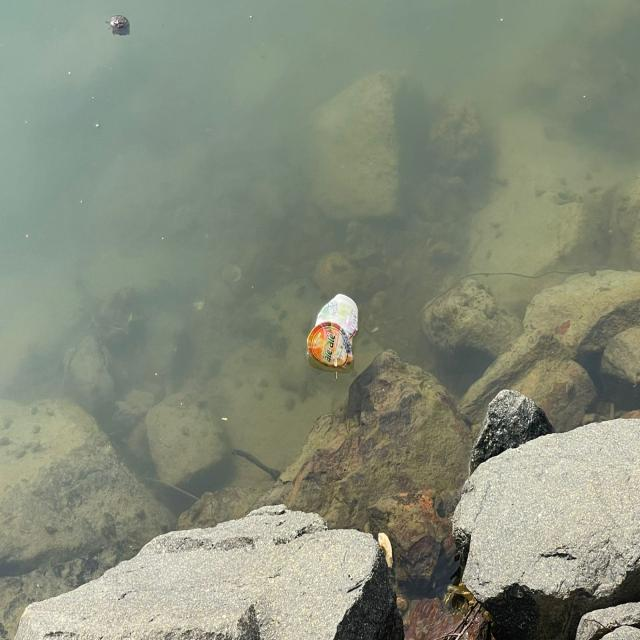Bungkus Minuman: (306, 281, 366, 376)
